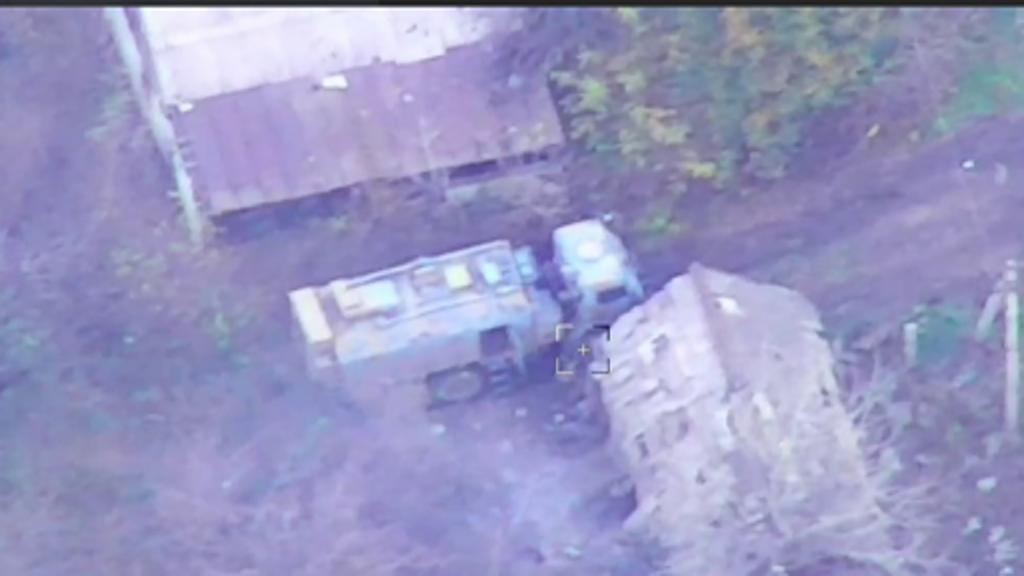TRUCK: (294, 215, 650, 424)
